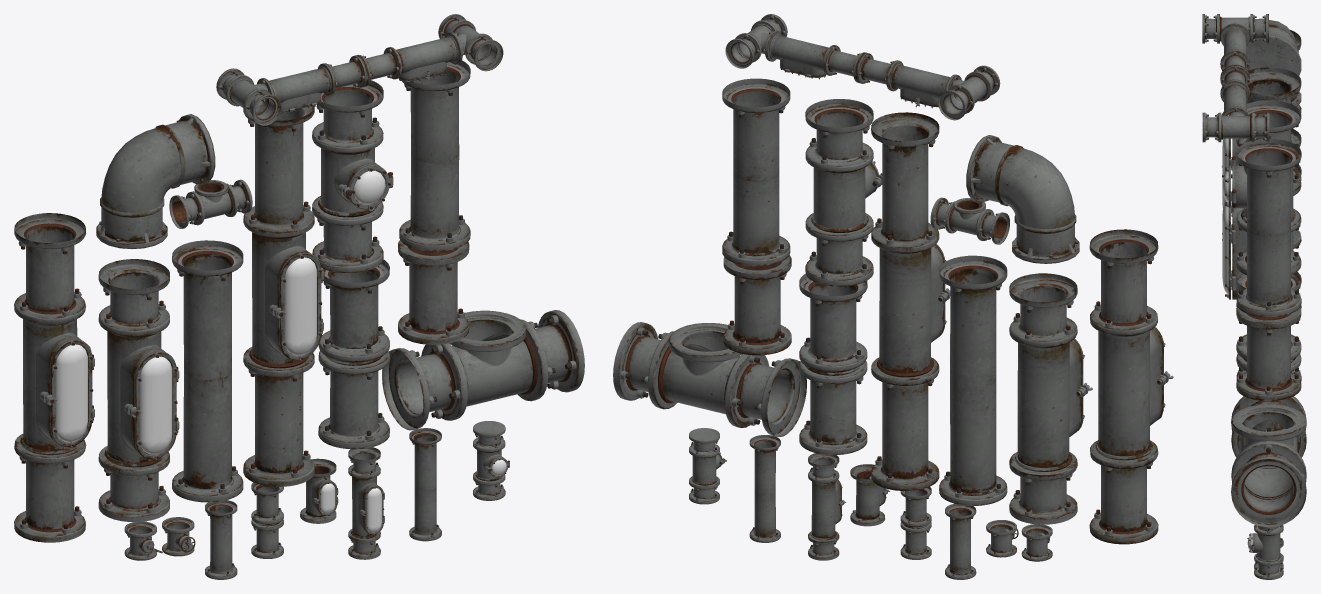
Rendered from poppy_playtime_4_gas_pipe.glb.
3 renders of one model, left to right at view 1: azimuth 30°, elevation 25°; view 2: azimuth 150°, elevation 25°; view 3: azimuth 270°, elevation 25°, orthographic. The views are drawn at different scales.
Visible parts, largest first — view 1: SM_BigGasPipe_11M_A.mo, SM_BigGasPipe_9M_A.mo, SM_BigGasPipe_7M_A.mo, SM_GasPipe_2M_3Way.mo, SM_BigGasPipeNoWindow_7M_A.mo, SM_BigGasPipe_5M_A.mo, SM_BigGasPipeNoWindow_5M_B.mo, SM_GasPipe_8m_Connection.mo, SM_BigGasPipe_Turn_A.mo, SM_BigGasPipeNoWindow_5M_A.mo, SM_BigGasPipe_2M_A.mo, SM_GasPipe_3M_A.mo (+8 smaller); view 2: SM_BigGasPipe_11M_A.mo, SM_BigGasPipe_9M_A.mo, SM_BigGasPipe_7M_A.mo, SM_GasPipe_2M_3Way.mo, SM_BigGasPipeNoWindow_7M_A.mo, SM_BigGasPipe_5M_A.mo, SM_BigGasPipeNoWindow_5M_A.mo, SM_BigGasPipeNoWindow_5M_B.mo, SM_GasPipe_8m_Connection.mo, SM_BigGasPipe_Turn_A.mo, SM_BigGasPipe_2M_A.mo, SM_GasPipe_3M_A.mo (+8 smaller); view 3: SM_GasPipe_2M_3Way.mo, SM_BigGasPipeNoWindow_5M_A.mo, SM_GasPipe_8m_Connection.mo, SM_BigGasPipe_2M_A.mo, SM_BigGasPipe_11M_A.mo, SM_BigGasPipe_5M_A.mo, SM_BigGasPipe_Turn_A.mo, SM_GasPipe_2M_A.mo, SM_BigGasPipeNoWindow_5M_B.mo, SM_BigGasPipe_9M_A.mo, SM_BigGasPipe_7M_A.mo, SM_BigGasPipeNoWindow_7M_A.mo.
Boxes of the visible parts, box(x1,y1,x2,y2) form: SM_BigGasPipe_11M_A.mo: box(243, 106, 323, 486); SM_BigGasPipe_9M_A.mo: box(14, 213, 94, 542); SM_BigGasPipe_7M_A.mo: box(98, 259, 179, 521); SM_GasPipe_2M_3Way.mo: box(382, 310, 584, 430); SM_BigGasPipeNoWindow_7M_A.mo: box(172, 240, 243, 502); SM_BigGasPipe_5M_A.mo: box(312, 80, 393, 272); SM_BigGasPipeNoWindow_5M_B.mo: box(318, 259, 389, 449); SM_GasPipe_8m_Connection.mo: box(216, 14, 503, 125); SM_BigGasPipe_Turn_A.mo: box(96, 114, 215, 248); SM_BigGasPipeNoWindow_5M_A.mo: box(399, 60, 470, 251); SM_BigGasPipe_2M_A.mo: box(398, 240, 469, 344); SM_GasPipe_3M_A.mo: box(348, 447, 384, 559); SM_BigGasPipe_11M_A.mo: box(871, 112, 950, 490); SM_BigGasPipe_9M_A.mo: box(1089, 229, 1173, 544); SM_BigGasPipe_7M_A.mo: box(1009, 273, 1092, 524); SM_GasPipe_2M_3Way.mo: box(613, 322, 806, 436); SM_BigGasPipeNoWindow_7M_A.mo: box(939, 255, 1007, 505); SM_BigGasPipe_5M_A.mo: box(805, 99, 882, 286); SM_BigGasPipeNoWindow_5M_A.mo: box(722, 78, 790, 266); SM_BigGasPipeNoWindow_5M_B.mo: box(799, 274, 867, 455); SM_GasPipe_8m_Connection.mo: box(725, 14, 1000, 120); SM_BigGasPipe_Turn_A.mo: box(966, 135, 1079, 263); SM_BigGasPipe_2M_A.mo: box(723, 255, 791, 355); SM_GasPipe_3M_A.mo: box(808, 453, 846, 560); SM_GasPipe_2M_3Way.mo: box(1231, 396, 1306, 527); SM_BigGasPipeNoWindow_5M_A.mo: box(1236, 138, 1301, 317); SM_GasPipe_8m_Connection.mo: box(1202, 14, 1269, 142); SM_BigGasPipe_2M_A.mo: box(1236, 307, 1301, 401); SM_BigGasPipe_11M_A.mo: box(1222, 67, 1301, 309); SM_BigGasPipe_5M_A.mo: box(1222, 100, 1301, 274); SM_BigGasPipe_Turn_A.mo: box(1246, 20, 1301, 106); SM_GasPipe_2M_A.mo: box(1247, 525, 1283, 579); SM_BigGasPipeNoWindow_5M_B.mo: box(1236, 272, 1301, 431); SM_BigGasPipe_9M_A.mo: box(1222, 30, 1301, 308); SM_BigGasPipe_7M_A.mo: box(1222, 128, 1301, 345); SM_BigGasPipeNoWindow_7M_A.mo: box(1236, 165, 1301, 381).
Bounding box in the file's own units: 17.22 × 15.6 × 3.15.
Materials: 4 (2 with a texture image).
